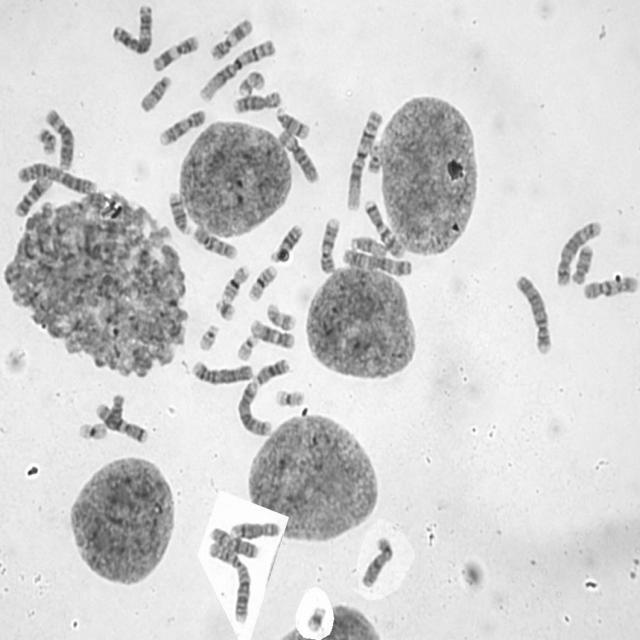A1: (196, 37, 278, 103), (344, 108, 384, 213)
A2: (206, 538, 252, 624), (15, 158, 98, 195)
A3: (110, 0, 154, 57), (339, 246, 414, 279)
B4: (512, 272, 553, 356), (190, 357, 254, 387)
B5: (552, 217, 602, 288), (235, 378, 273, 437)
C10: (190, 222, 239, 260), (581, 274, 639, 302)
C11: (207, 16, 254, 61), (150, 32, 200, 72)
C12: (12, 172, 53, 220), (248, 316, 296, 350)
C6: (276, 125, 321, 184), (42, 106, 76, 170)
C7: (362, 198, 407, 260), (94, 400, 150, 444)
C8: (232, 88, 282, 114), (228, 518, 282, 540)
C9: (157, 105, 207, 147), (316, 214, 341, 275)
D13: (267, 221, 304, 264), (252, 355, 290, 387)
D14: (274, 104, 311, 140), (166, 188, 193, 236)
D15: (137, 72, 172, 114), (348, 233, 389, 259)
E16: (218, 262, 252, 304), (246, 262, 278, 303)
E17: (264, 300, 297, 332), (236, 67, 266, 98)
E18: (569, 242, 595, 285), (98, 392, 125, 429)
F19: (76, 418, 109, 441), (272, 386, 306, 408)
F20: (36, 124, 57, 156), (366, 138, 383, 174)
G21: (304, 602, 328, 634), (213, 297, 236, 321)
G22: (196, 321, 220, 352), (234, 332, 258, 361)
X: (358, 533, 396, 589), (206, 524, 261, 558)
